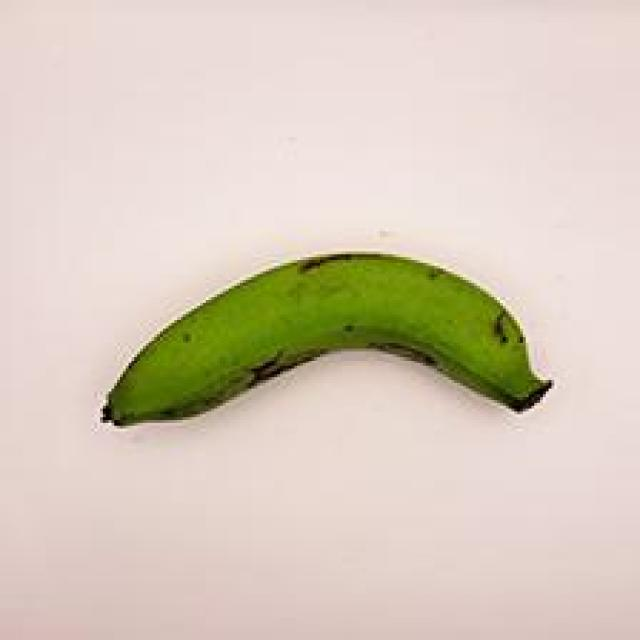Raw: (66, 234, 568, 448)
